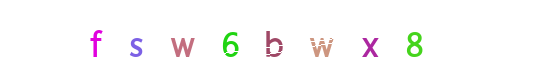6: (230, 0, 310, 80)
8: (330, 0, 410, 80)
B: (238, 0, 318, 80)
F: (56, 0, 136, 80)
S: (96, 0, 176, 80)
W: (185, 0, 265, 80), (287, 0, 367, 80)
X: (293, 0, 373, 80)
